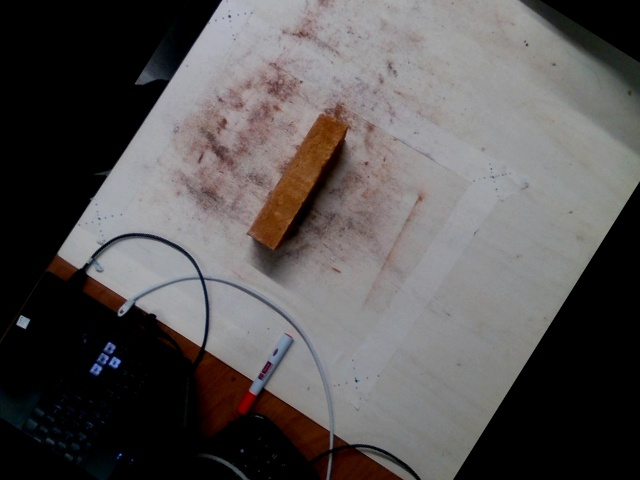brick-side: (250, 111, 344, 249)
